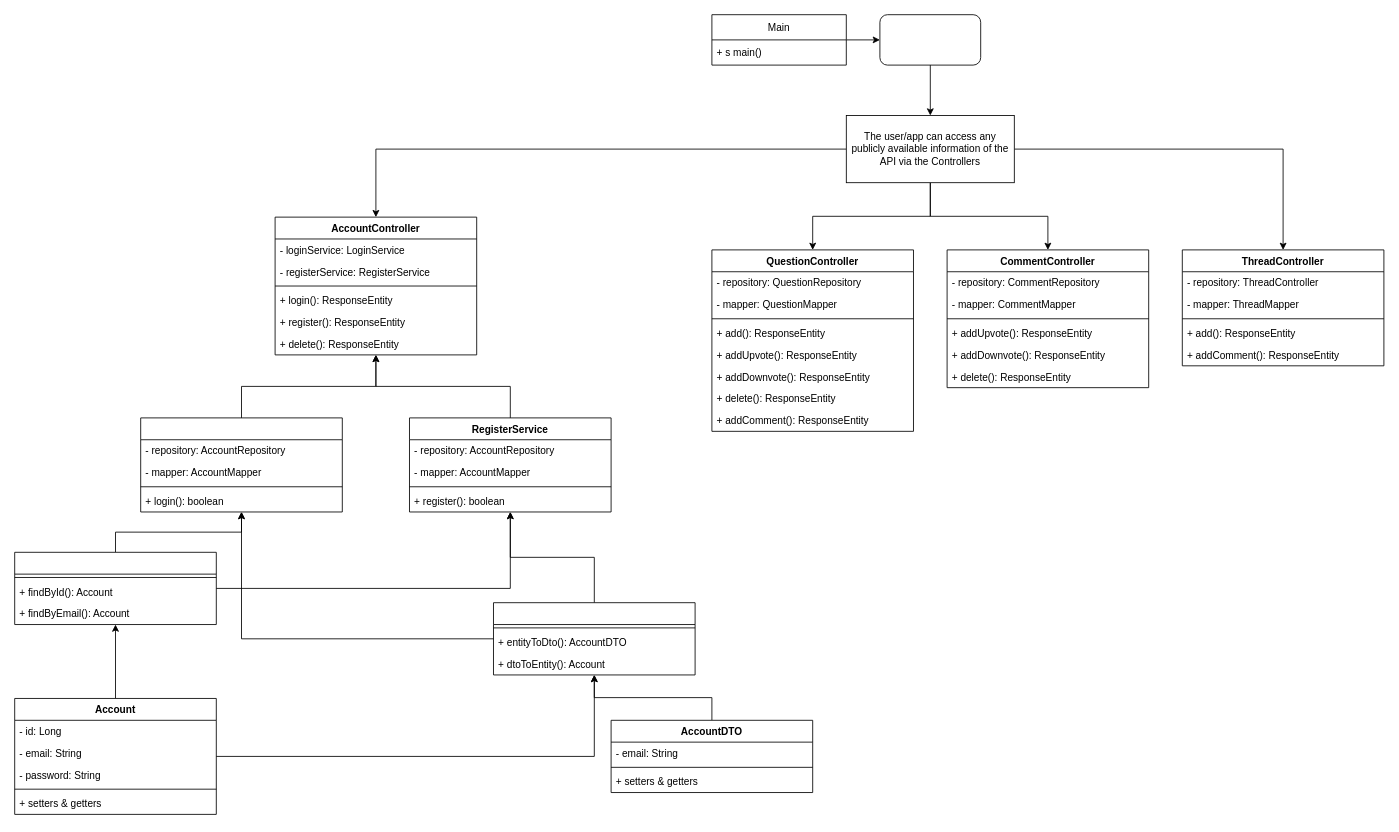
Image size: 1399x832. Some labels were removed from this diagram. Each missing label, with the box of its shape:
AccountMapper: (493, 602, 695, 675)
AccountRepository: (14, 551, 216, 625)
LoginService: (140, 417, 342, 512)
Main just starts the TomCat and creates all the associations: (879, 14, 981, 65)
